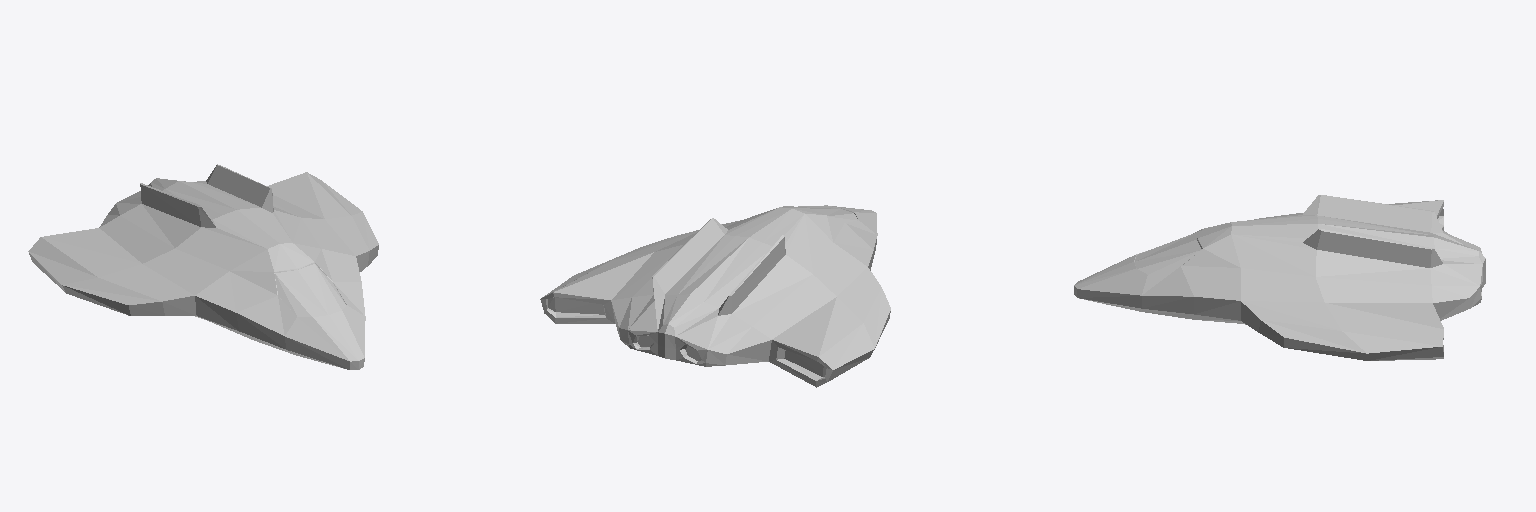
The model's file is Player_ship_model.obj.
3 views of the same model, side by side, from view 1: azimuth 30°, elevation 25°; view 2: azimuth 150°, elevation 25°; view 3: azimuth 270°, elevation 25° (orthographic).
Parts seen in each view (by area): view 1: Box001; view 2: Box001; view 3: Box001.
Part boxes in pixels (x1,y1,x2,y2): Box001: (28,164,378,369); Box001: (540,205,890,387); Box001: (1074,195,1485,360).
Bounding box in the file's own units: 14.71 × 4.14 × 17.43.